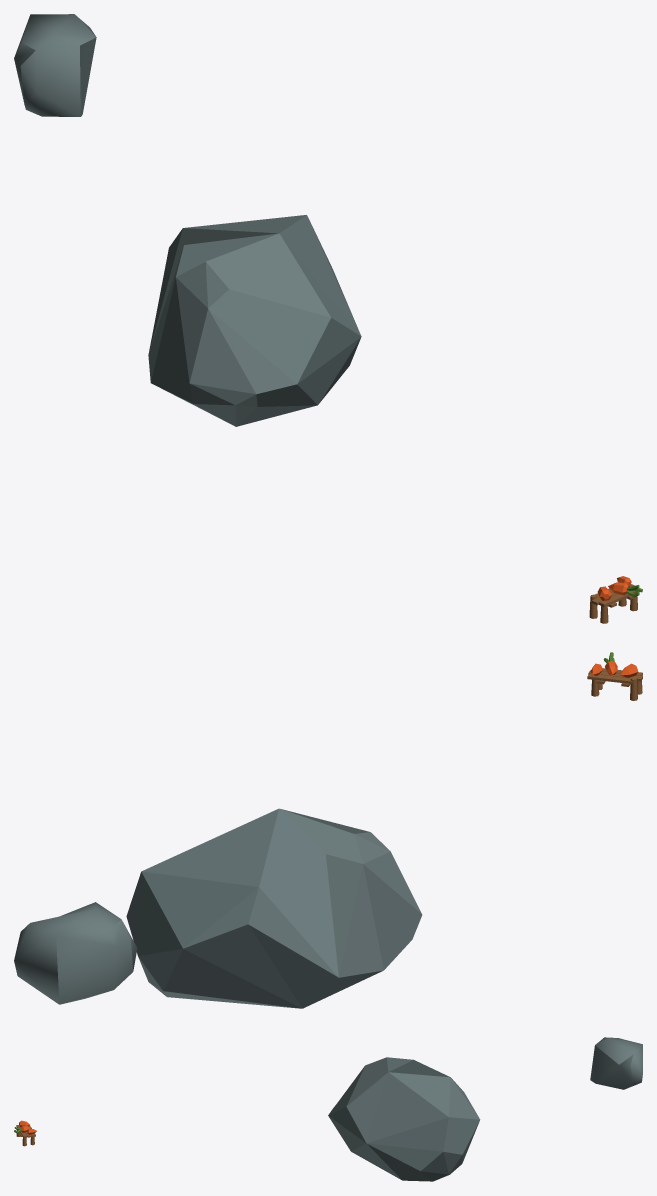
3 views of the same model, one above another, from view 1: azimuth 30°, elevation 25°; view 2: azimuth 150°, elevation 25°; view 3: azimuth 270°, elevation 25° (orthographic). The views are drawn at different scales.
Visible parts, largest first — view 1: Box130_rock_0, Box889_rock_0; view 2: Box130_rock_0, Box889_rock_0, Object283_brown_0; view 3: Box130_rock_0, Box889_rock_0.
Boxes of the visible parts, left/top/right/bottom form: Box130_rock_0: left=148, top=215, right=361, bottom=426; Box889_rock_0: left=14, top=14, right=96, bottom=116; Box130_rock_0: left=126, top=808, right=422, bottom=1008; Box889_rock_0: left=14, top=902, right=137, bottom=1004; Object283_brown_0: left=587, top=668, right=642, bottom=700; Box130_rock_0: left=328, top=1057, right=480, bottom=1181; Box889_rock_0: left=590, top=1037, right=642, bottom=1089.
Size of the model in its own units: 627 by 596 by 2873.
